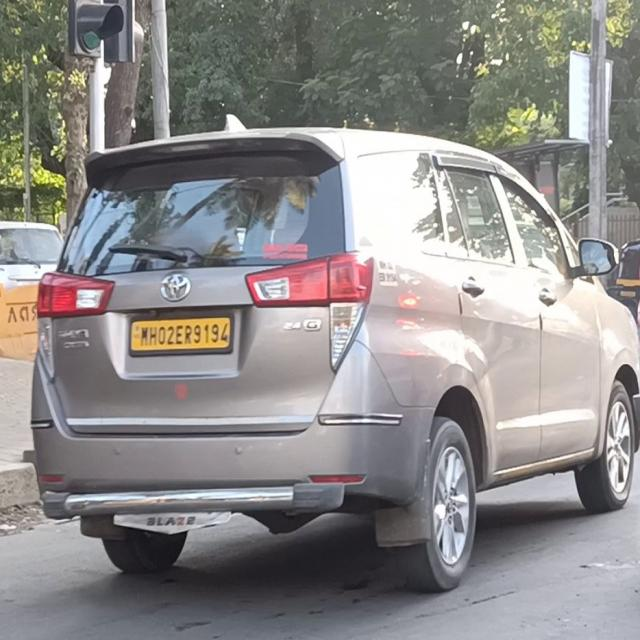Plate: (130, 316, 232, 348)
